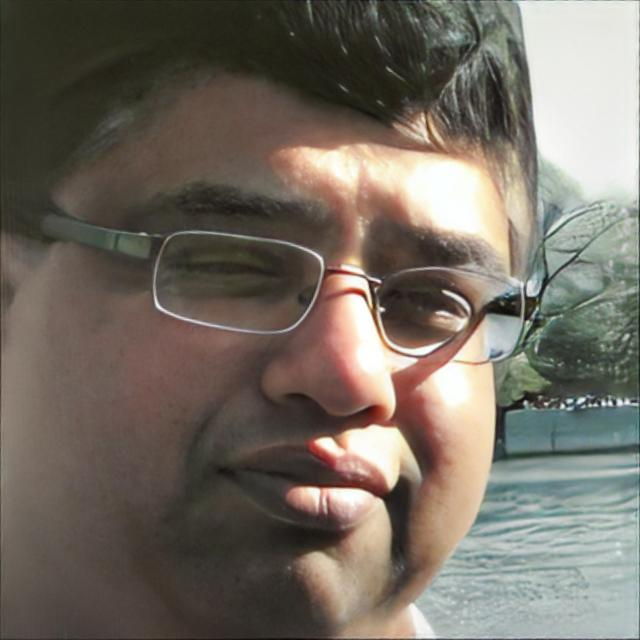sad: (52, 46, 513, 640)
